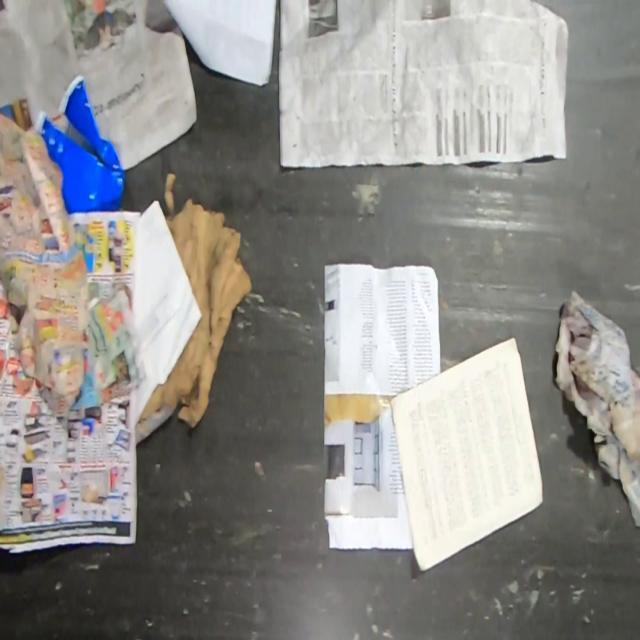cardboard: (136, 172, 253, 430)
rigid_plastic: (36, 74, 127, 215)
